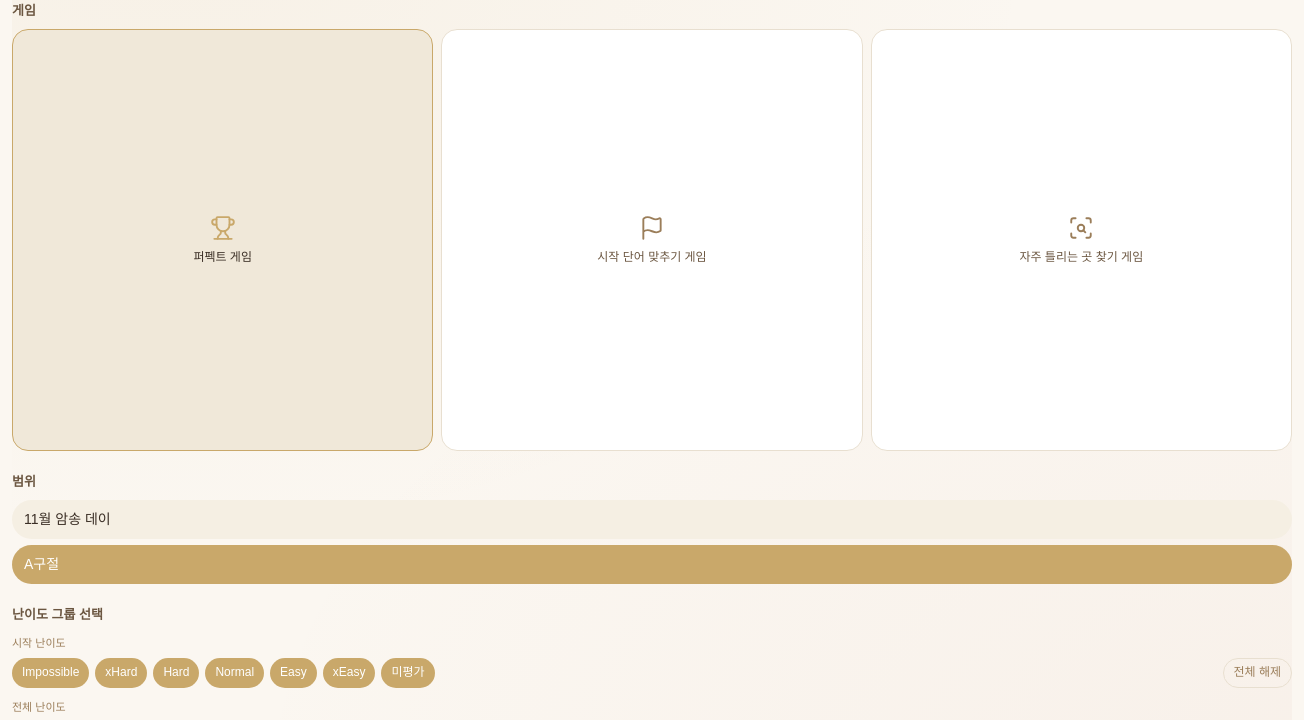
Scenario: QuizScopePicker — games › says how many real questions 자주 틀리는 곳 찾기 has
Click the button "자주 틀리는 곳 찾기 게임" at (1081, 240), box [871,29,1292,451]
(page scrolled)
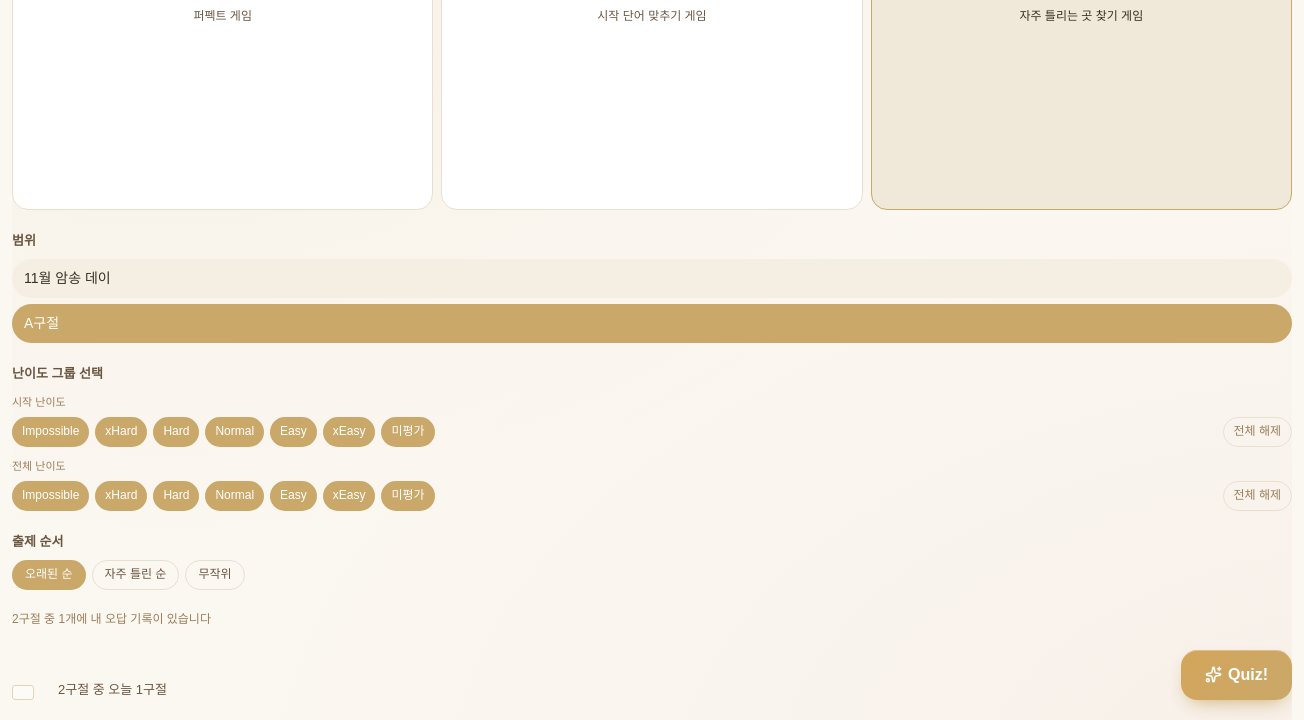
Check: the text "2구절 중 1개에 내 오답 기록이 있습니다" is shown, box [12,612,211,626]
